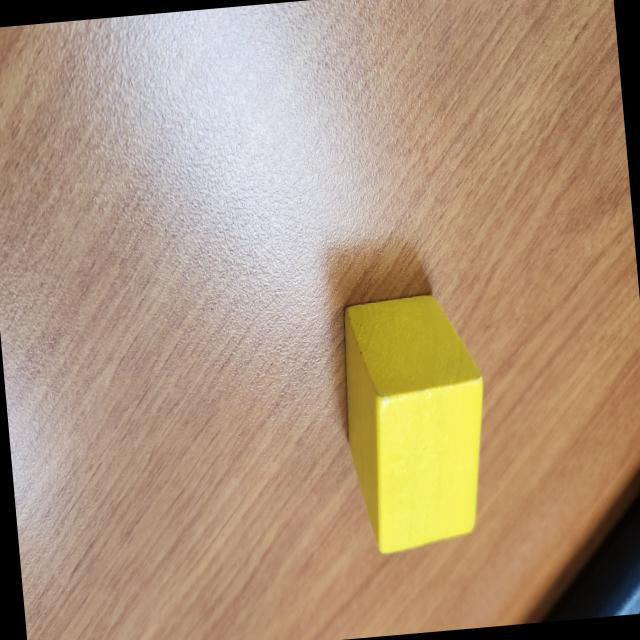yellow: (328, 288, 497, 558)
